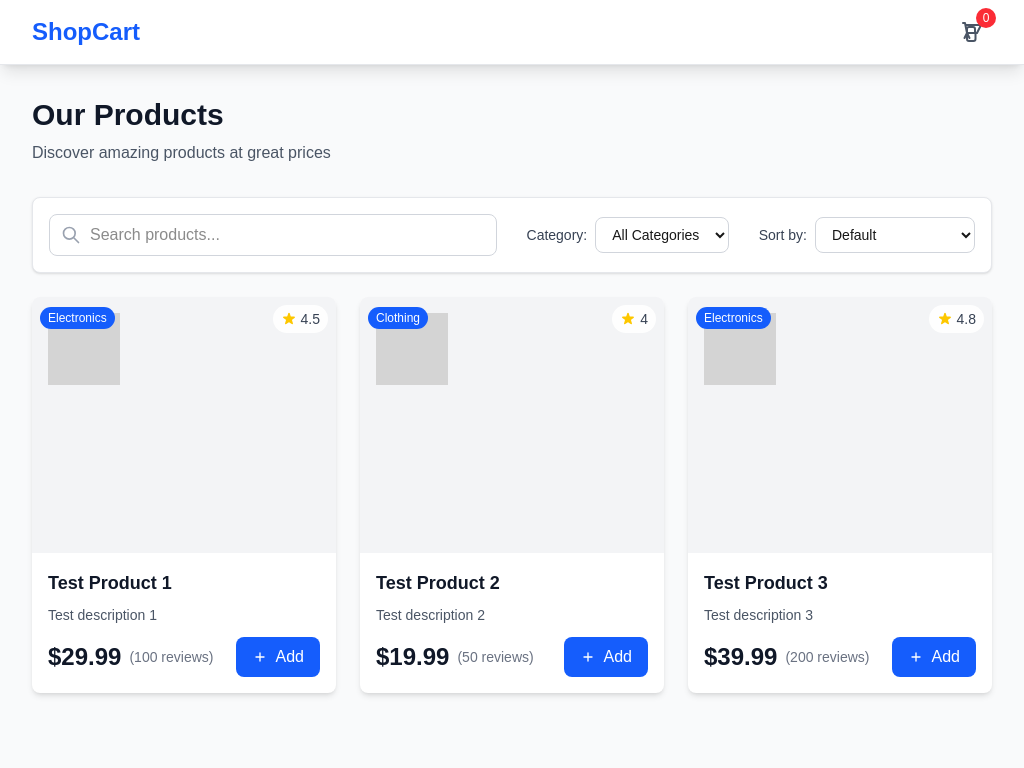
Home Page › filters products by category
This screenshot has width=1024, height=768.
Expected: the heading "Test Product 1" is shown, left=48, top=573, right=172, bottom=593
Select "Electronics" in the dropdown showing "All Categories" next to "Category:" at (662, 235), box left=595, top=217, right=729, bottom=253
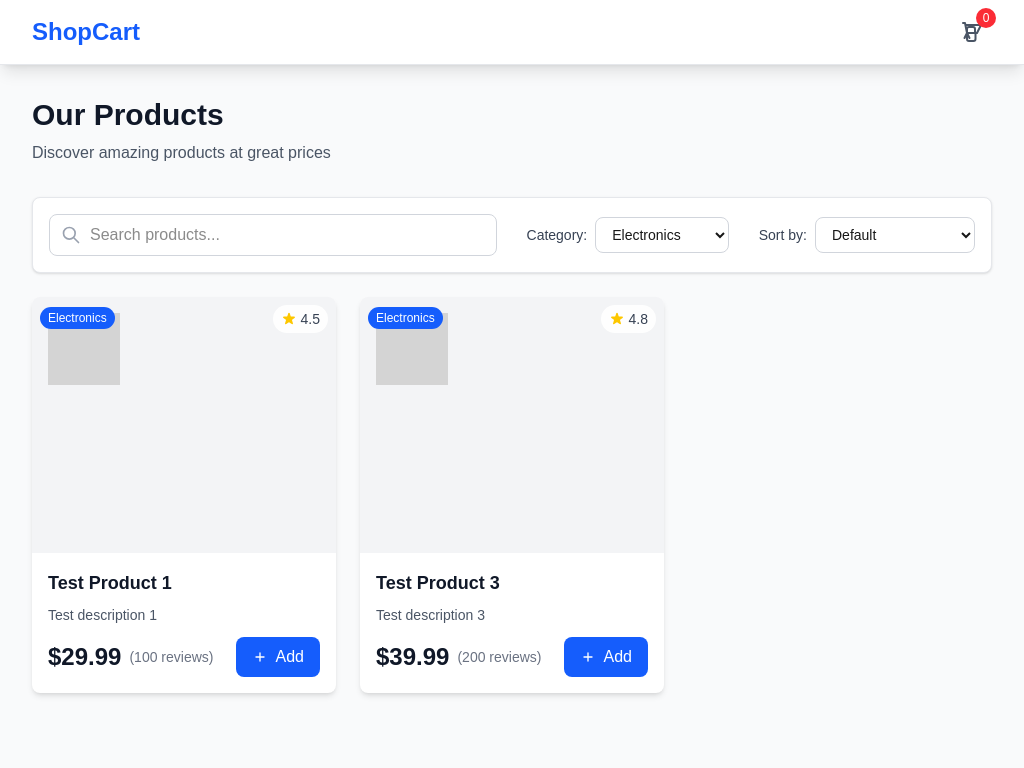
Expected: the heading "Test Product 1" is shown, left=48, top=573, right=172, bottom=593
Expected: the link "Test Product 2" is gone
